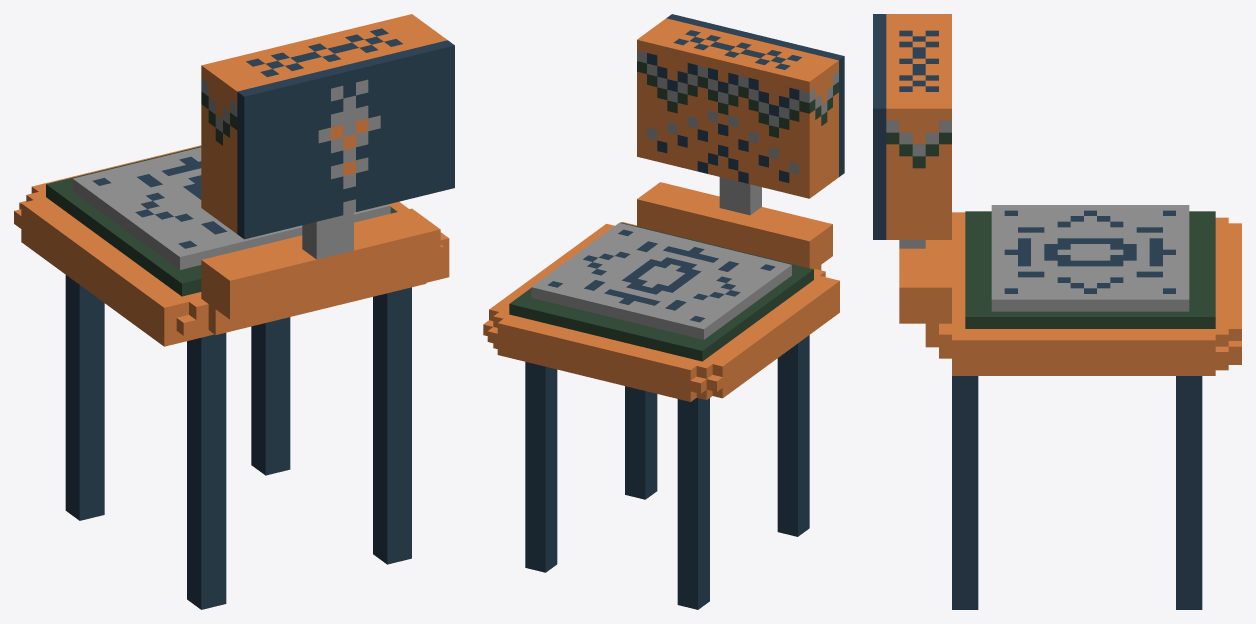
The model's file is Nha-7.obj.
3 renders of one model, left to right at view 1: azimuth 30°, elevation 25°; view 2: azimuth 150°, elevation 25°; view 3: azimuth 270°, elevation 25°, orthographic. The views are drawn at different scales.
Bounding box in the file's own units: 2.3 × 4.2 × 2.8.
Materials: 1 (1 with a texture image).
